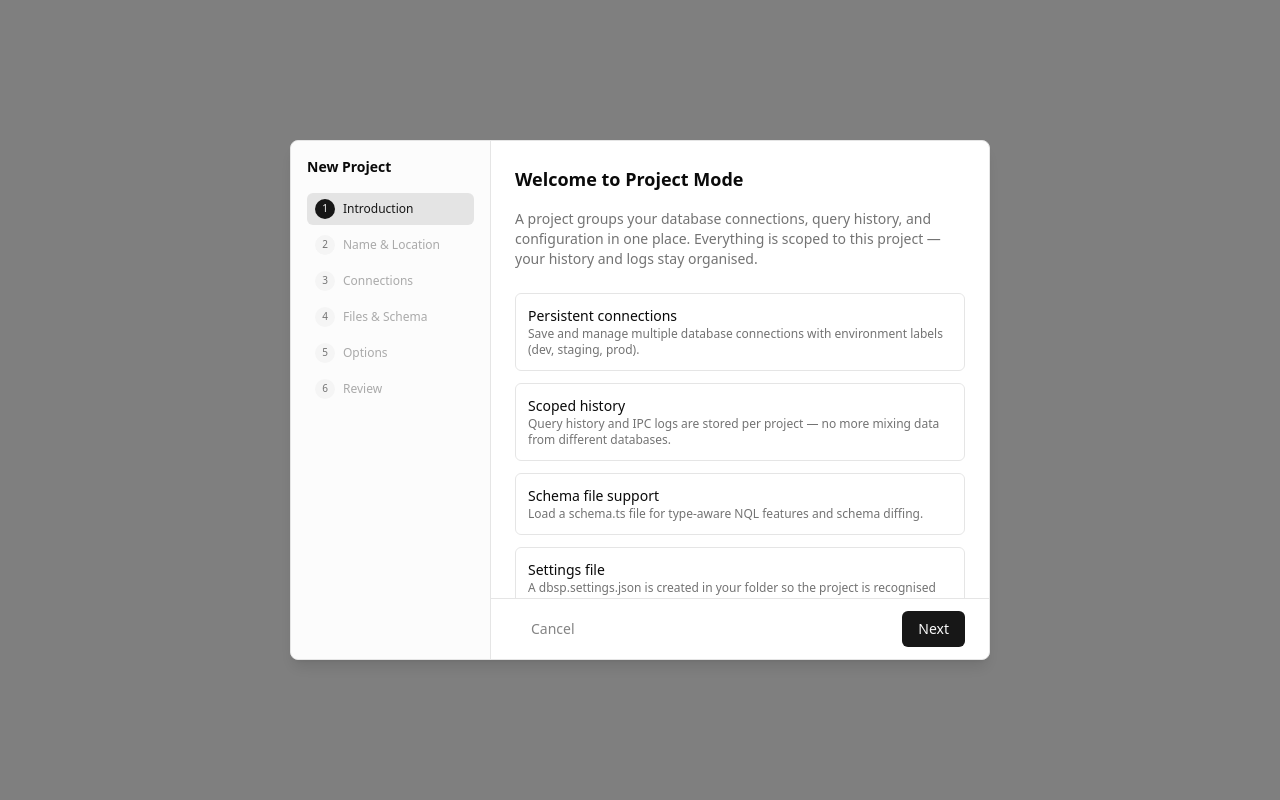
Test case: NewProjectWizard › disables buttons when creating
The width and height of the screenshot is (1280, 800).
Click the button with test id "wizard-next". click: point(934, 629)
box: [902,611,965,647]
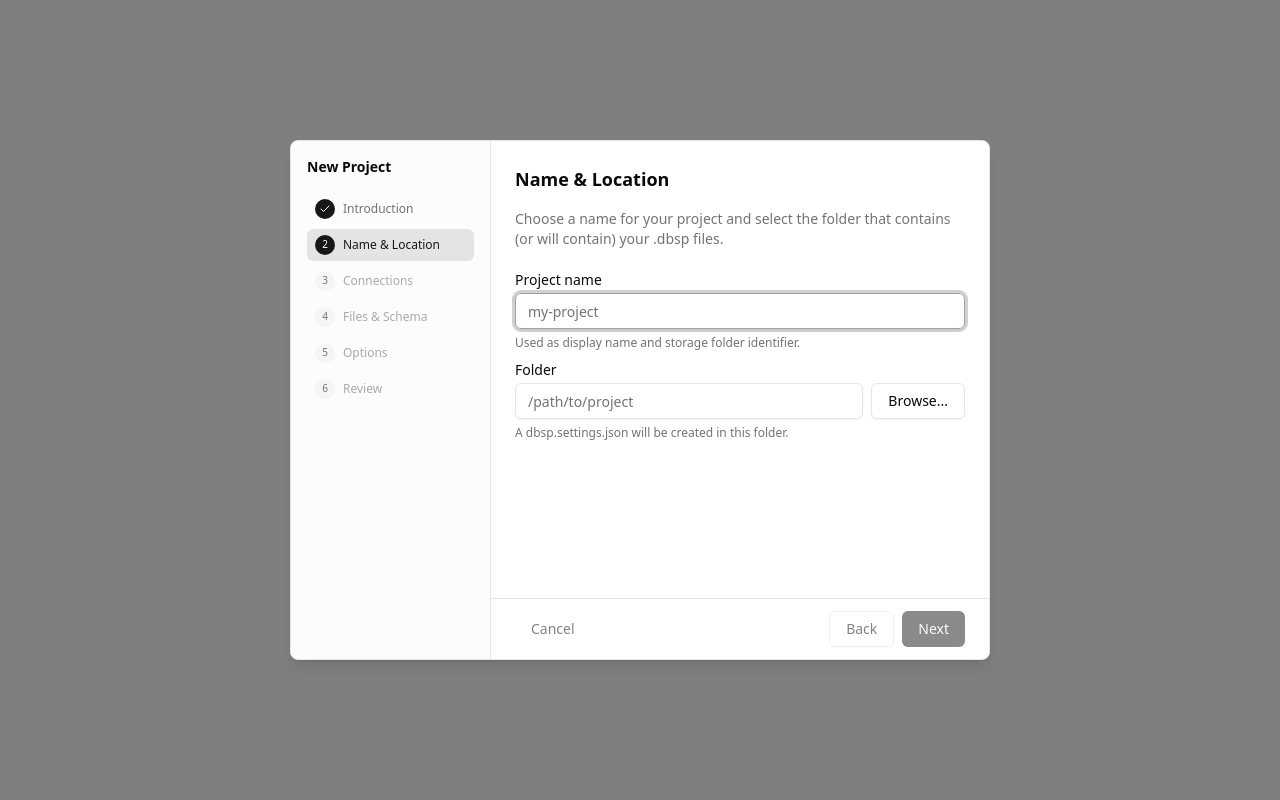
Type "x" into the field with placeholder "my-project". click: point(740, 311)
box: [515,293,965,329]
Type "/x" into the field with placeholder "/path/to/project". click: point(689, 401)
box: [515,383,863,419]
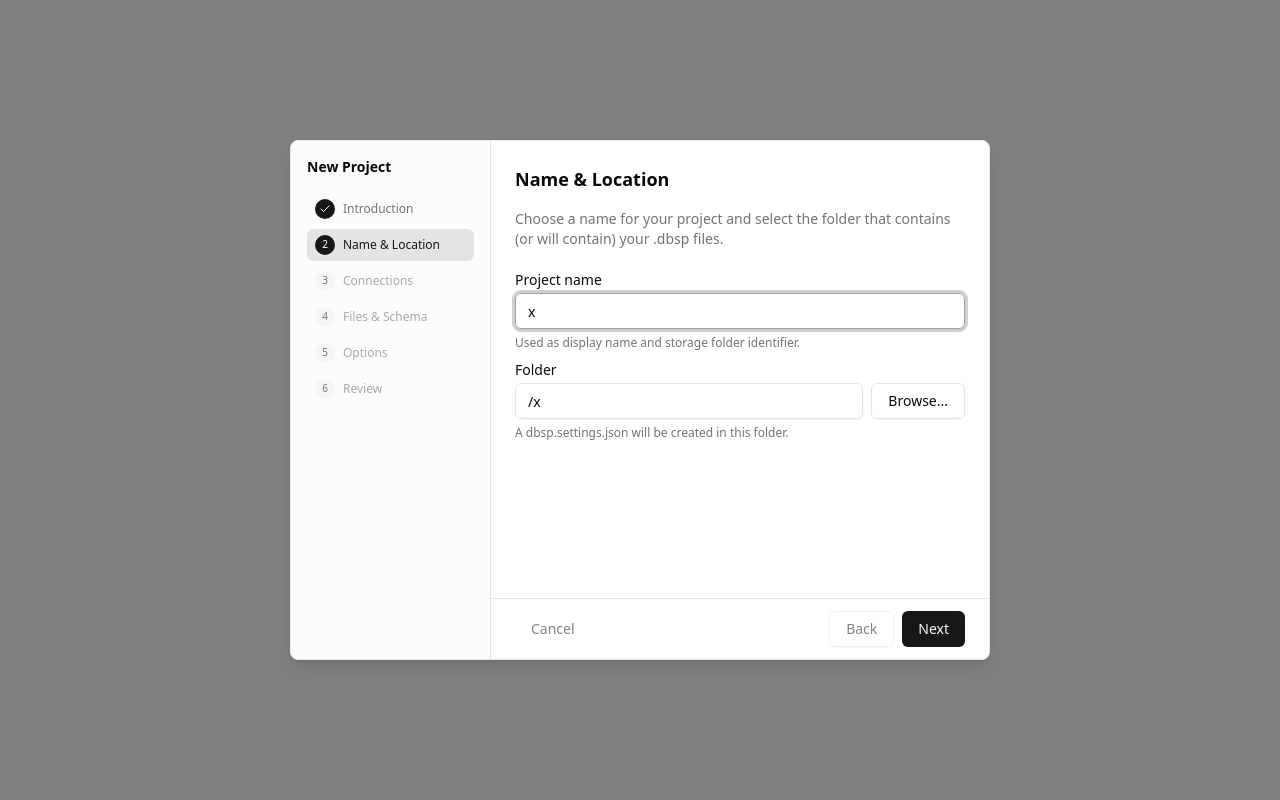
Click the button with test id "wizard-next". click: point(934, 629)
box: [902,611,965,647]
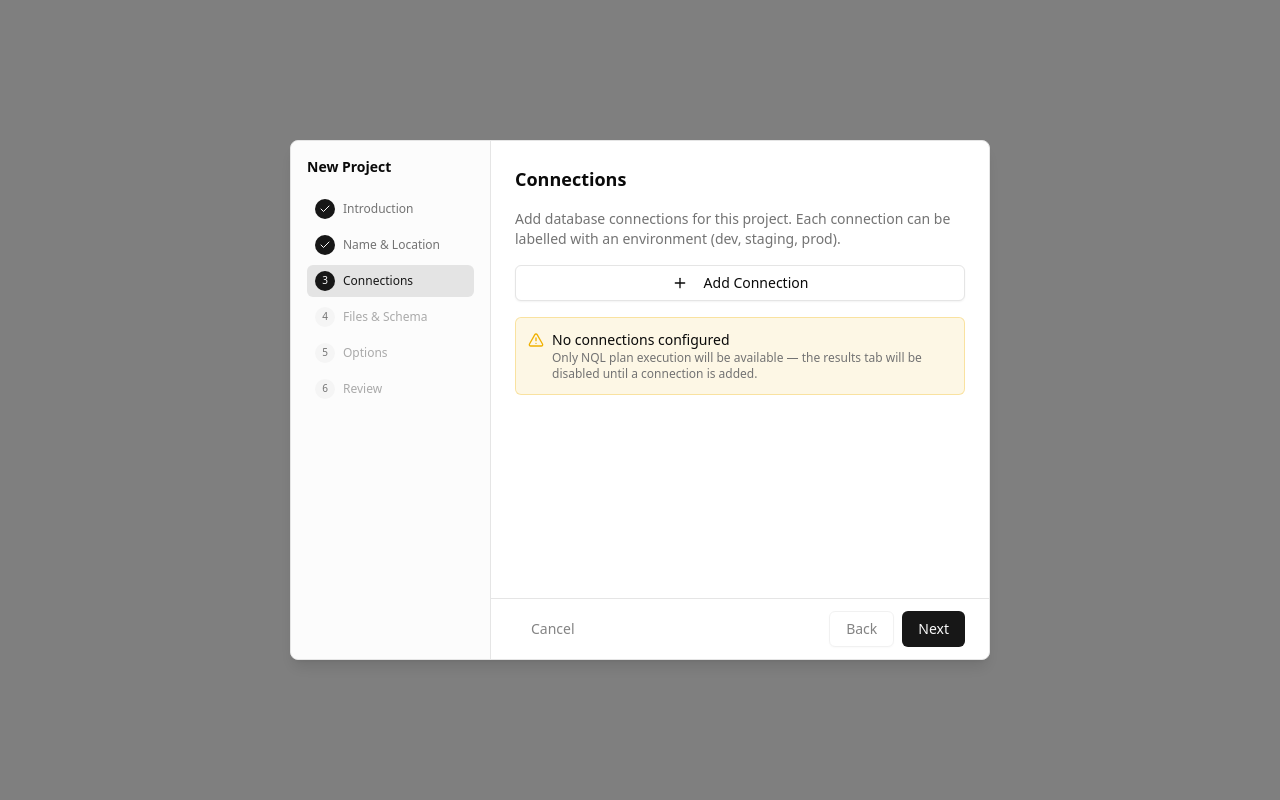
Click the button with test id "wizard-next". click: point(934, 629)
box: [902,611,965,647]
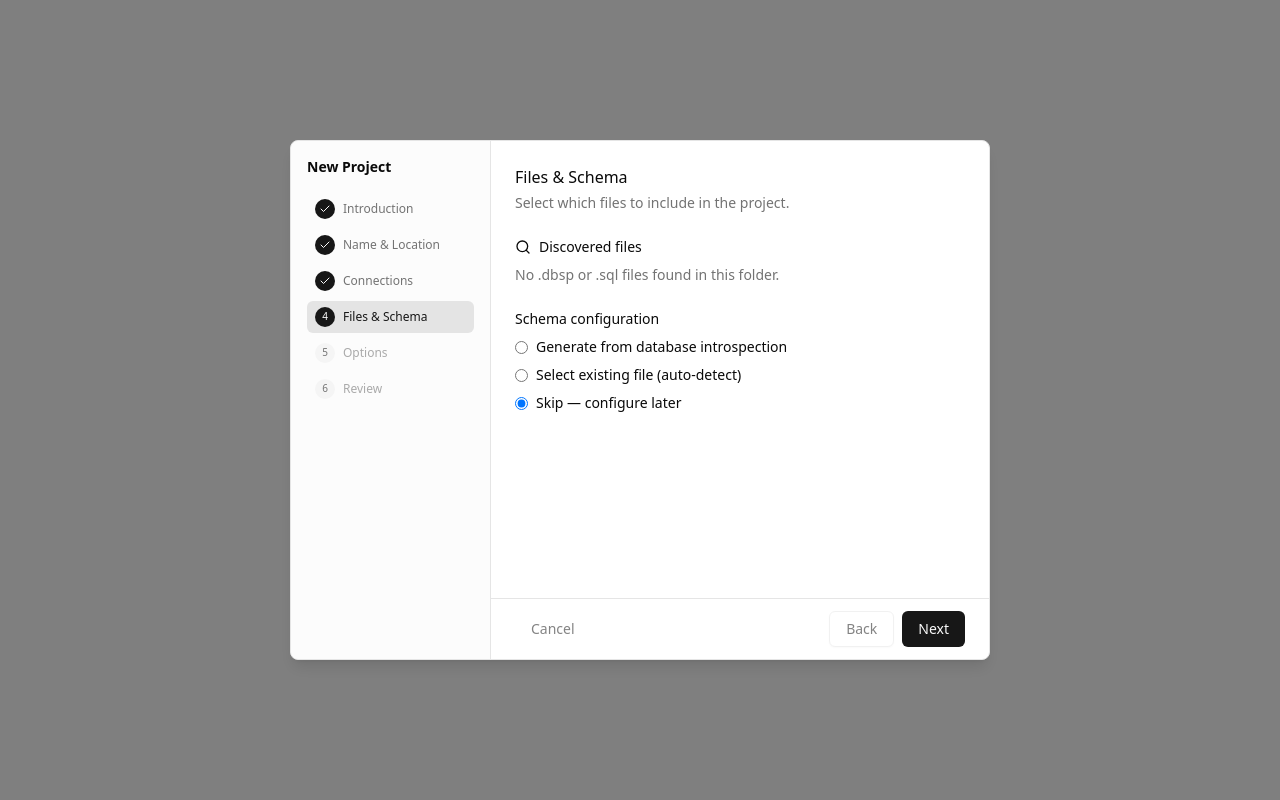
expect the text "No .dbsp or .sql files found in this folder." is shown: met, box [515,265,779,284]
Click the button with test id "wizard-next". click: point(934, 629)
box: [902,611,965,647]
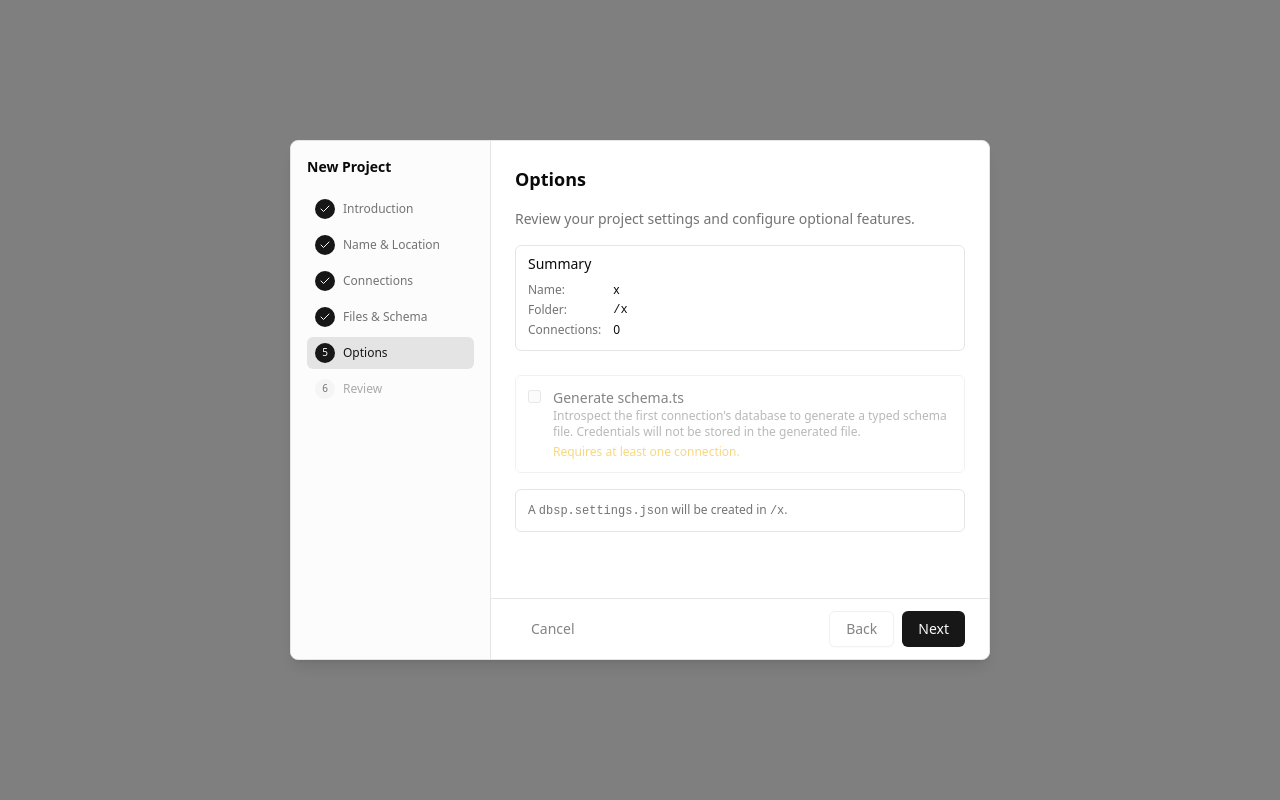
Click the button with test id "wizard-next". click: point(934, 629)
box: [902,611,965,647]
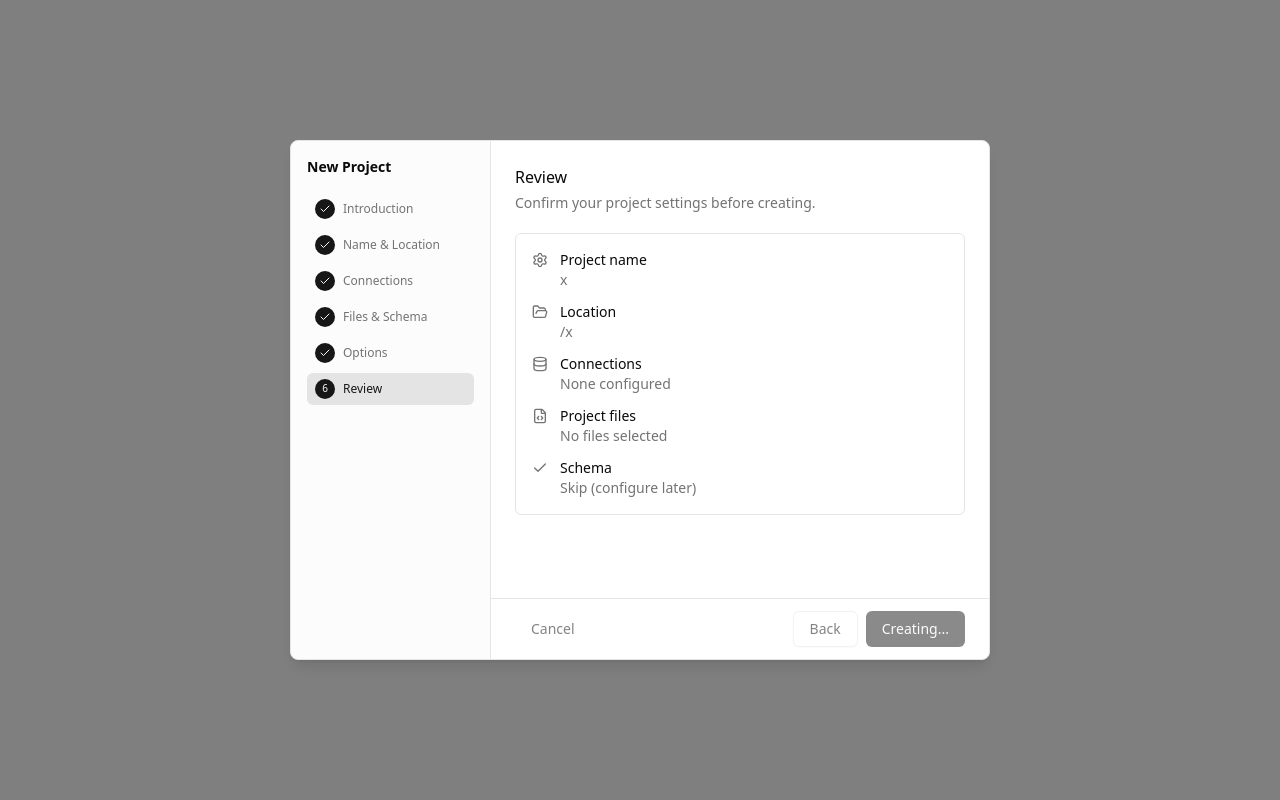
expect the button with test id "wizard-create" is disabled: met, box [866,611,965,647]
expect the button with test id "wizard-create" reads "Creating...": met, box [866,611,965,647]
